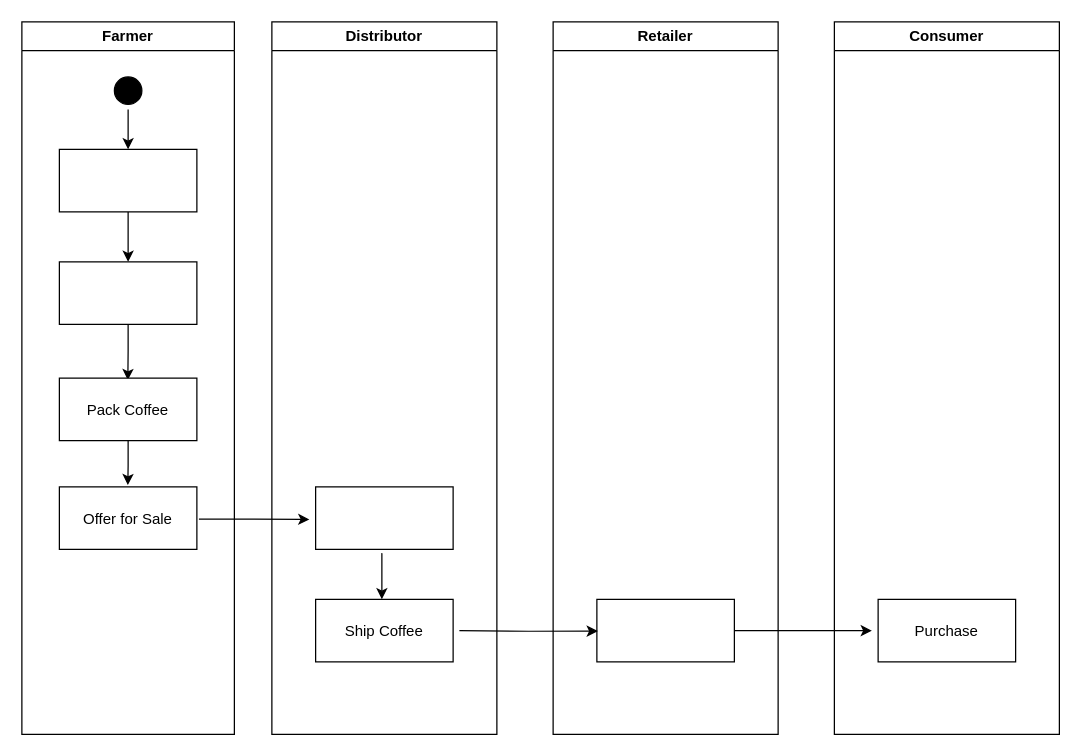
Image size: 1081x756. Some labels were removed from this diagram. Each missing label, with the centre of its shape:
Buy Coffee: the point at 383,517
Harvest Coffee: the point at 127,180
Process Coffee: the point at 127,292
Recieve Cofee: the point at 665,630
